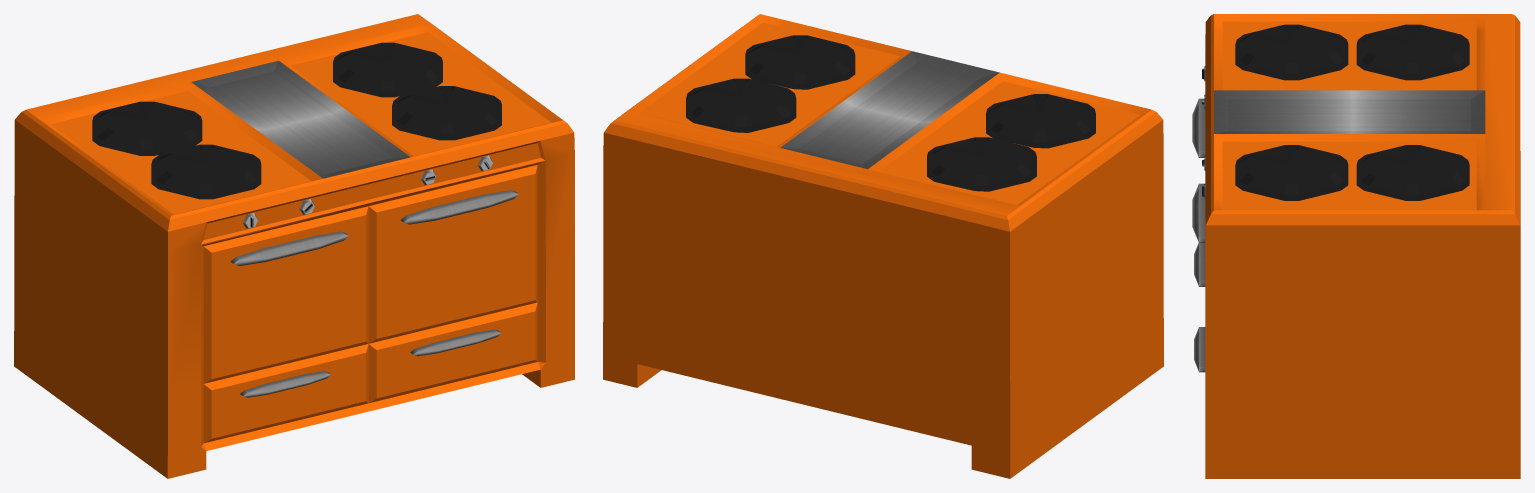
File: Stove_And_Oven_04.FBX
3 renders of one model, left to right at view 1: azimuth 30°, elevation 25°; view 2: azimuth 150°, elevation 25°; view 3: azimuth 270°, elevation 25°, orthographic. The views are drawn at different scales.
Parts seen in each view (by area): view 1: Oven/Stove; view 2: Oven/Stove; view 3: Oven/Stove.
Part boxes in pixels (<box>): Oven/Stove: <box>14,14,574,478</box>; Oven/Stove: <box>603,14,1163,478</box>; Oven/Stove: <box>1192,14,1520,478</box>.
Bounding box in the file's own units: 230 × 143 × 157.
